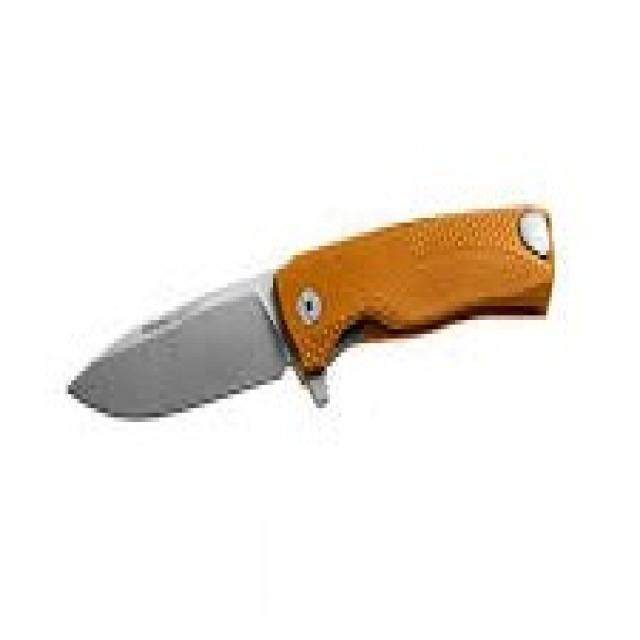knife: (62, 195, 566, 437)
